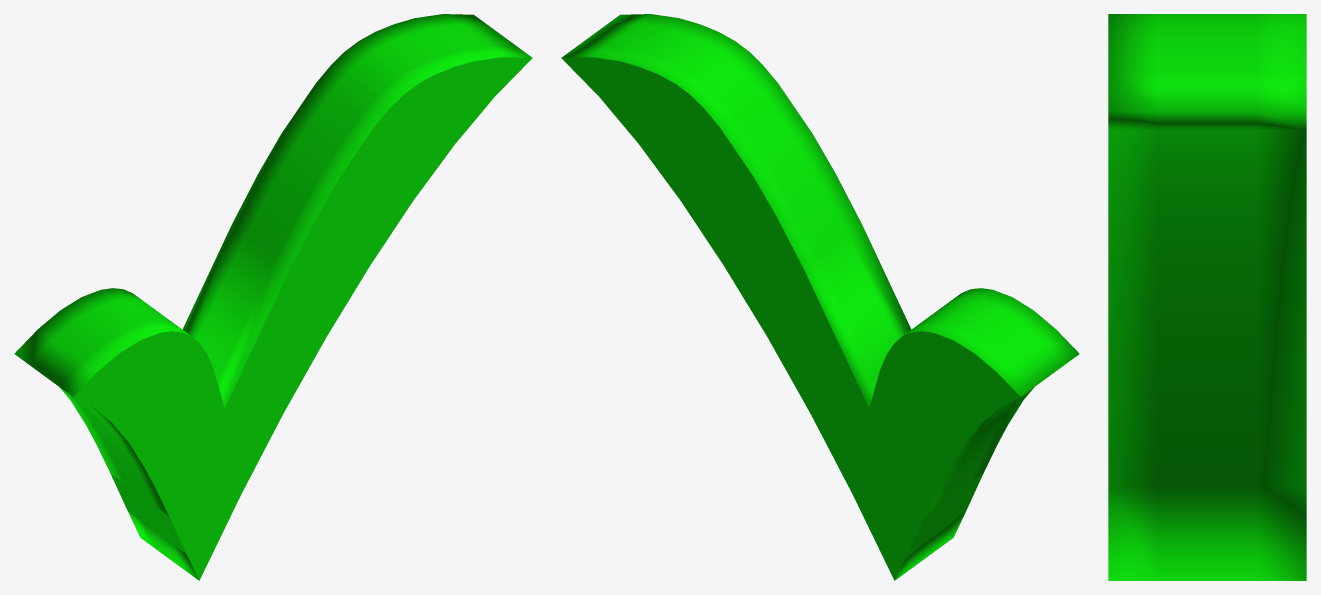
File: CheckMark2.gltf
The picture shows the model from 3 angles, left to right: view 1: azimuth 30°, elevation 25°; view 2: azimuth 150°, elevation 25°; view 3: azimuth 270°, elevation 25°; orthographic projection. The views are drawn at different scales.
Parts seen in each view (by area): view 1: typeMesh1; view 2: typeMesh1; view 3: typeMesh1.
Part boxes in pixels (left/top/right/bottom): typeMesh1: left=14, top=14, right=532, bottom=580; typeMesh1: left=561, top=14, right=1079, bottom=580; typeMesh1: left=1108, top=14, right=1306, bottom=580.
Bounding box in the file's own units: 0.1125 × 0.1059 × 0.025.
